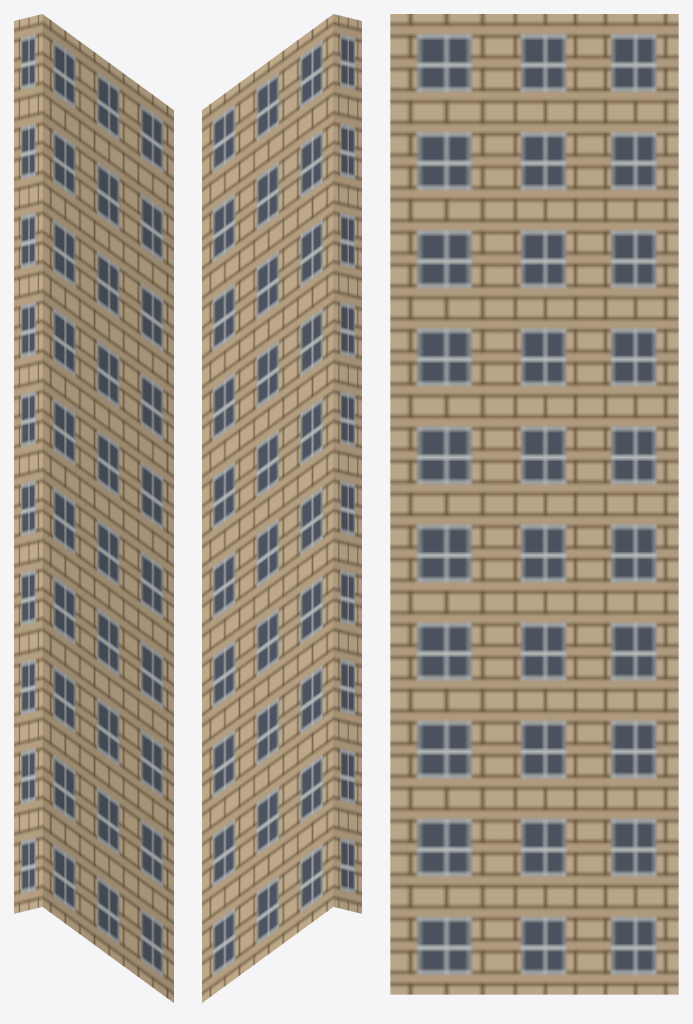
3 views of the same model, side by side, from view 1: azimuth 30°, elevation 25°; view 2: azimuth 150°, elevation 25°; view 3: azimuth 270°, elevation 25° (orthographic). The views are drawn at different scales.
Bounding box in the file's own units: 1 × 30 × 8.
Materials: 2 (1 with a texture image).
